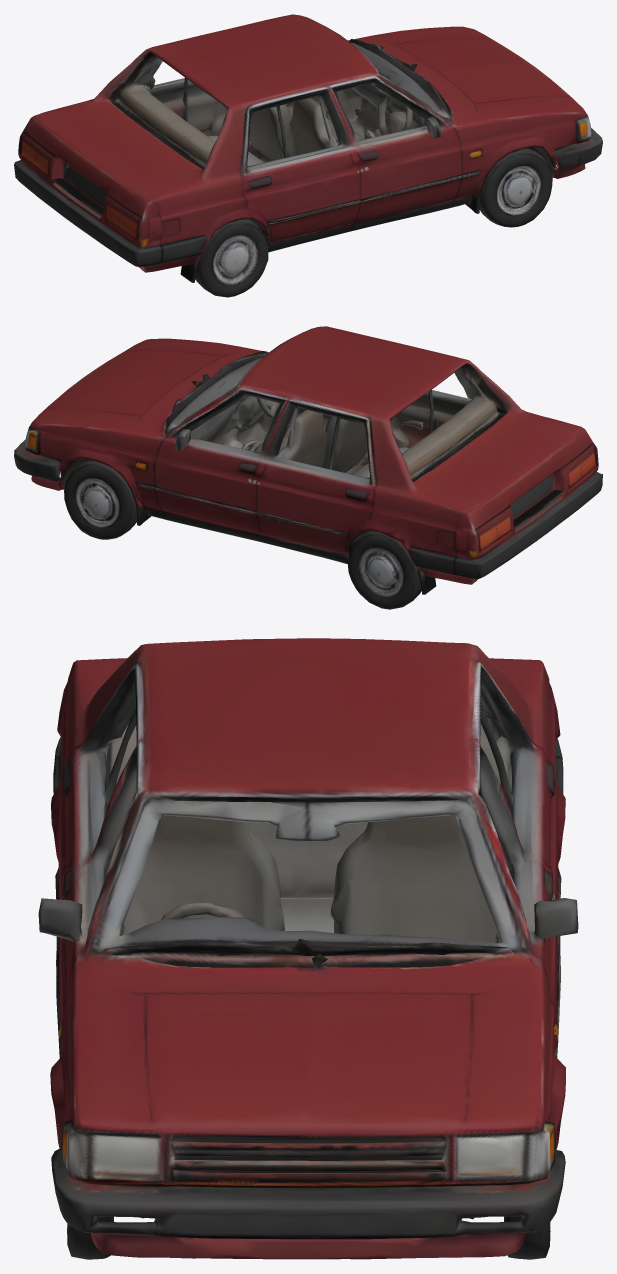
Rendered from model_pbr.glb.
The picture shows the model from 3 angles, top to bottom: view 1: azimuth 30°, elevation 25°; view 2: azimuth 150°, elevation 25°; view 3: azimuth 270°, elevation 25°; orthographic projection. The views are drawn at different scales.
Visible parts, largest first — view 1: tripo_node_046762e3-0505-4d30-bef7-782a501ac24a; view 2: tripo_node_046762e3-0505-4d30-bef7-782a501ac24a; view 3: tripo_node_046762e3-0505-4d30-bef7-782a501ac24a.
Boxes of the visible parts, x1=… form: tripo_node_046762e3-0505-4d30-bef7-782a501ac24a: x1=14, y1=14, x2=602, y2=297; tripo_node_046762e3-0505-4d30-bef7-782a501ac24a: x1=14, y1=326, x2=602, y2=609; tripo_node_046762e3-0505-4d30-bef7-782a501ac24a: x1=38, y1=638, x2=578, y2=1259.
Bounding box in the file's own units: 0.9999 × 0.3526 × 0.486.
Materials: 1 (1 with a texture image).
